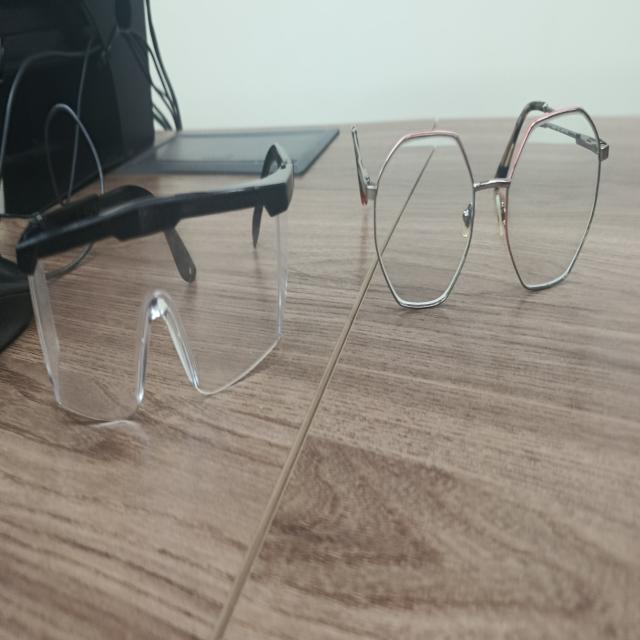oculos-epi: (16, 137, 295, 420)
sem_oculos: (352, 103, 603, 311)
